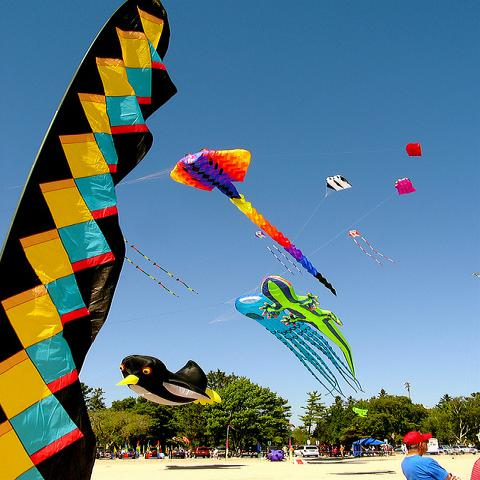car: (188, 445, 211, 459), (294, 446, 320, 458), (452, 445, 478, 455), (240, 445, 260, 458), (210, 446, 231, 457), (145, 447, 164, 459), (119, 448, 136, 460), (167, 449, 186, 459), (96, 449, 114, 459), (440, 447, 460, 454)
